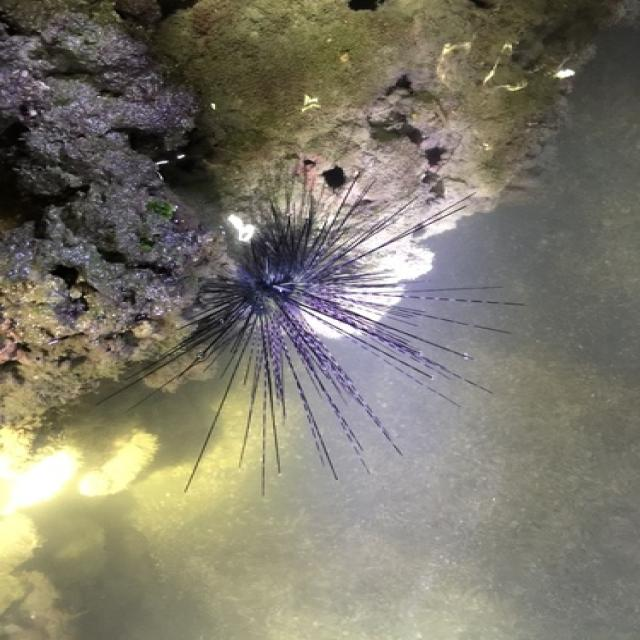Urchin: (87, 184, 495, 490)
